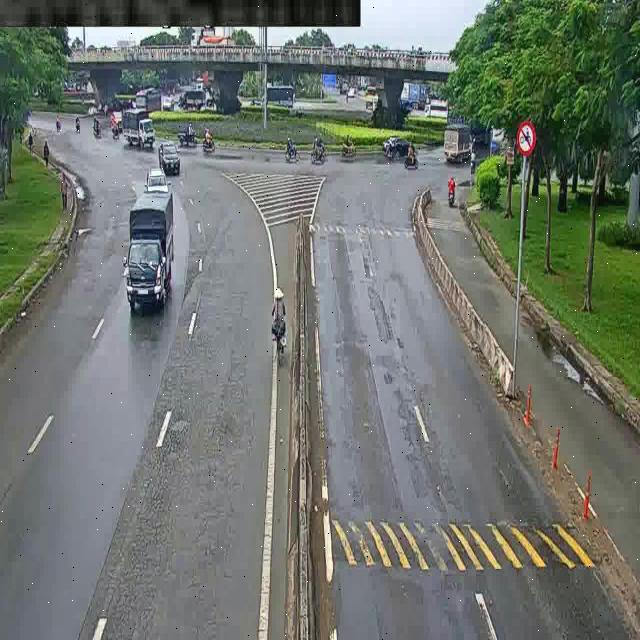bicycle: (271, 287, 292, 347)
bus: (174, 90, 217, 121), (263, 80, 298, 116), (137, 90, 166, 115)
car: (155, 141, 180, 176), (144, 167, 175, 194)
motorbike: (276, 138, 306, 177), (177, 122, 198, 154), (306, 131, 325, 166), (337, 139, 364, 161), (88, 112, 106, 141), (445, 178, 462, 207), (406, 144, 423, 172), (52, 115, 72, 137), (199, 130, 213, 159), (74, 114, 84, 135)
person: (482, 139, 514, 218)
truck: (121, 187, 202, 324), (118, 110, 156, 149), (443, 125, 476, 160)
